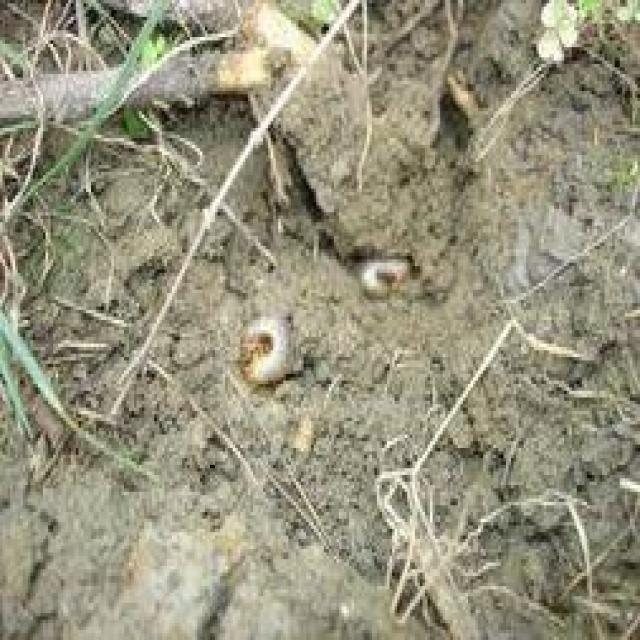Grub-Adult-: (240, 309, 304, 388), (362, 246, 419, 307)
